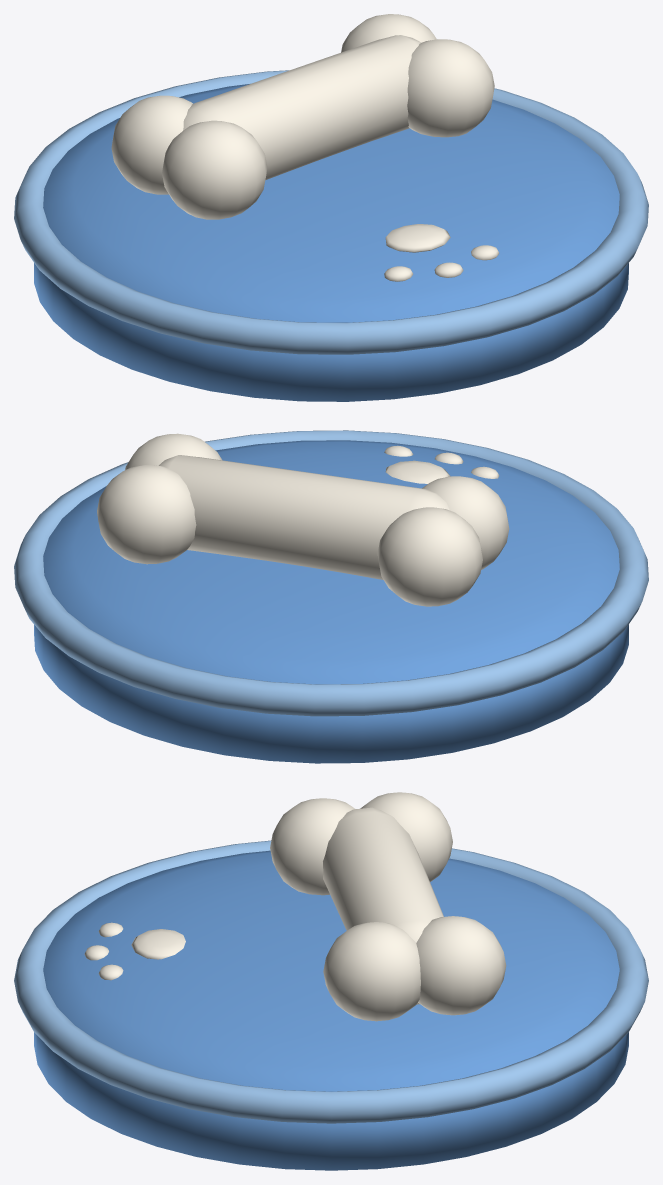
Rendered from bone-cushion.glb.
3 views of the same model, one above another, from view 1: azimuth 30°, elevation 25°; view 2: azimuth 150°, elevation 25°; view 3: azimuth 270°, elevation 25° (orthographic).
Visible parts, largest first — view 1: cushion, bone; view 2: cushion, bone; view 3: cushion, bone.
Part boxes in pixels (bbox=[...]): cushion: bbox=[14, 70, 648, 401]; bone: bbox=[111, 14, 494, 219]; cushion: bbox=[14, 430, 648, 763]; bone: bbox=[97, 433, 509, 606]; cushion: bbox=[14, 840, 648, 1170]; bone: bbox=[270, 792, 506, 1021].
Size of the model in its own units: 0.896 by 0.285 by 0.896.
